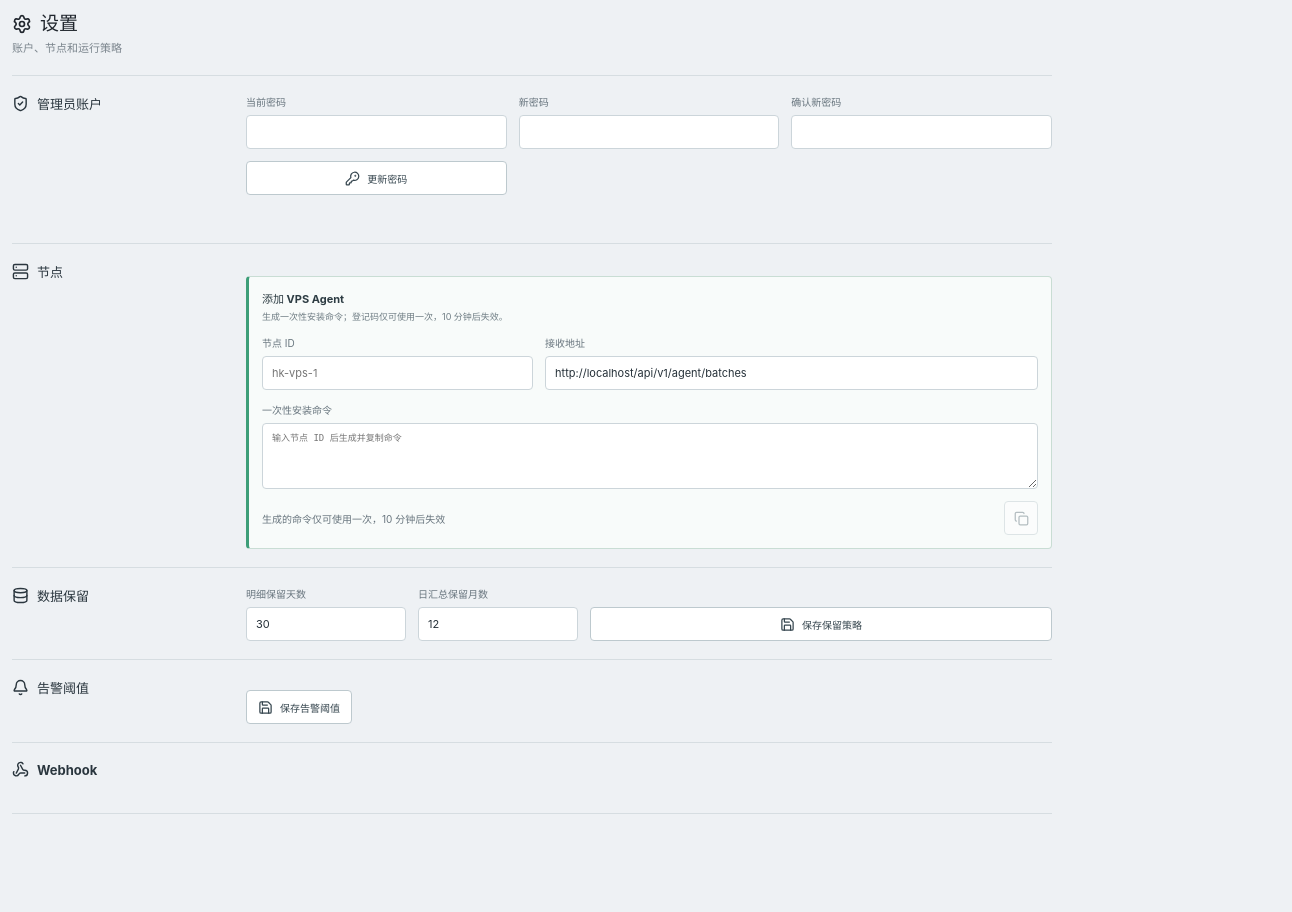
submits password changes using the server route method
Expected: the number field labelled "明细保留天数" is shown, [246, 607, 406, 641]
Type "current password value" into the password field labelled "当前密码".
click(376, 132); type("current password value")  # box [246, 115, 507, 149]
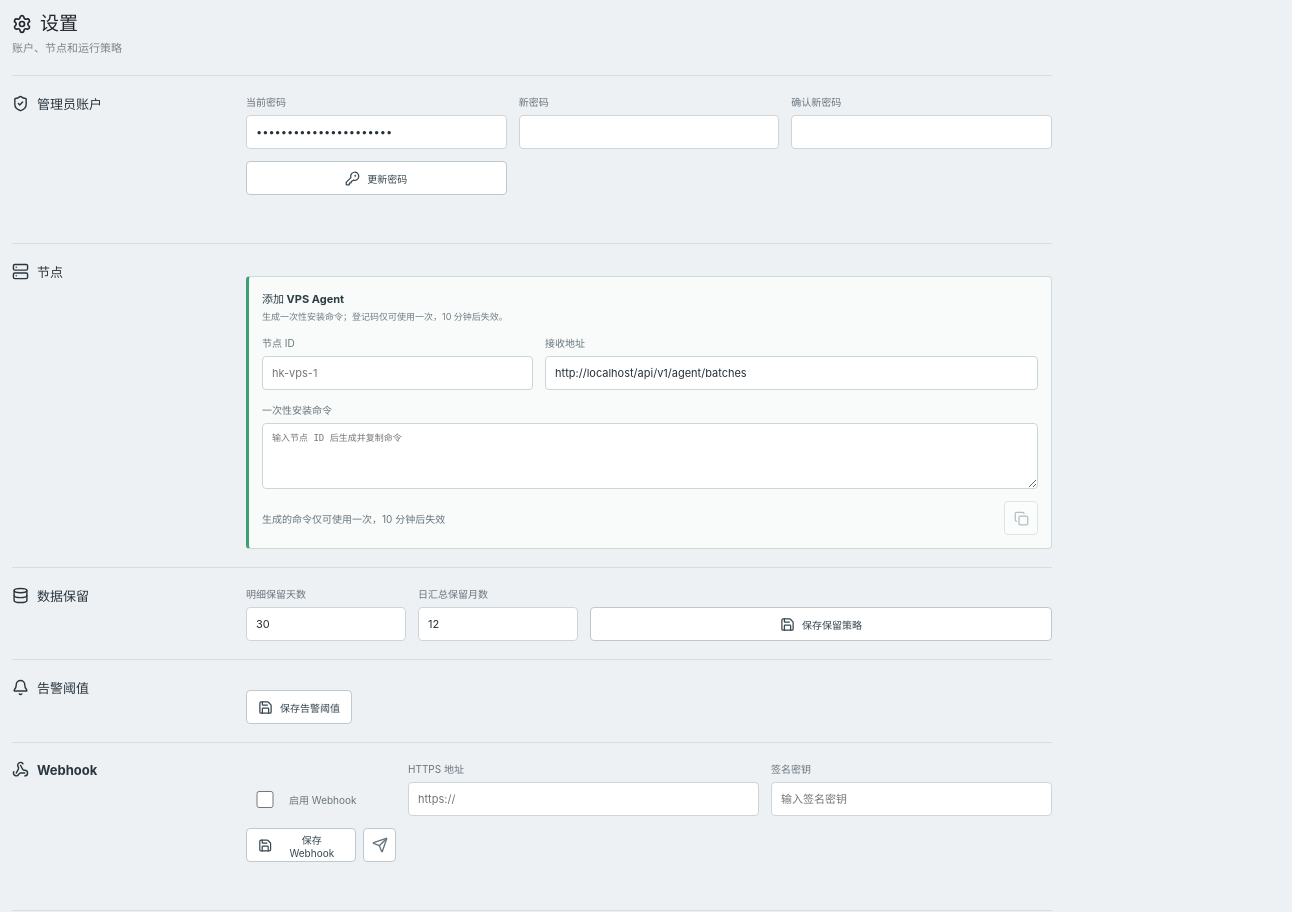
Type "new password value" into the password field labelled "新密码".
click(649, 132); type("new password value")  # box [519, 115, 779, 149]
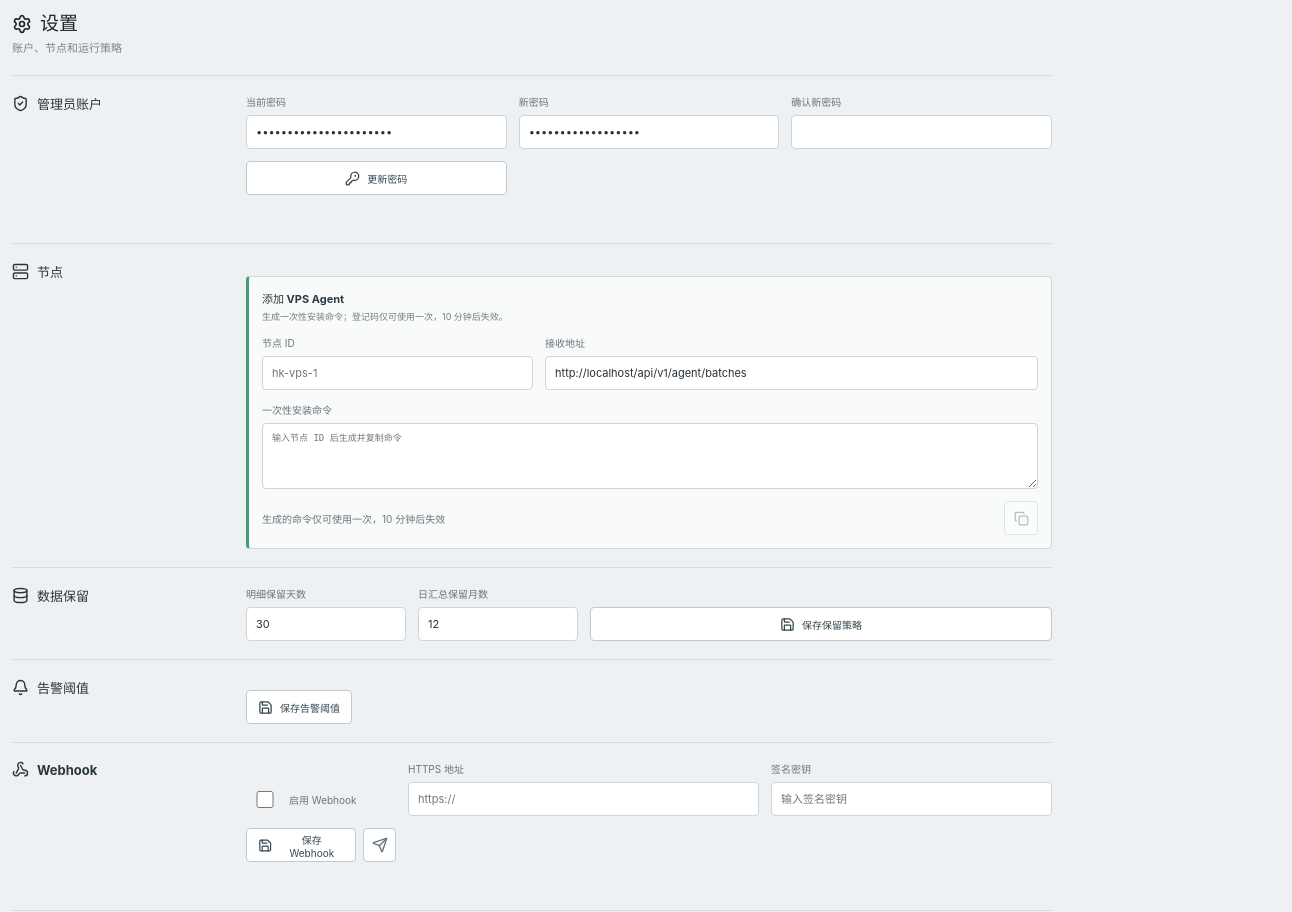
Type "new password value" into the password field labelled "确认新密码".
click(922, 132); type("new password value")  # box [791, 115, 1052, 149]
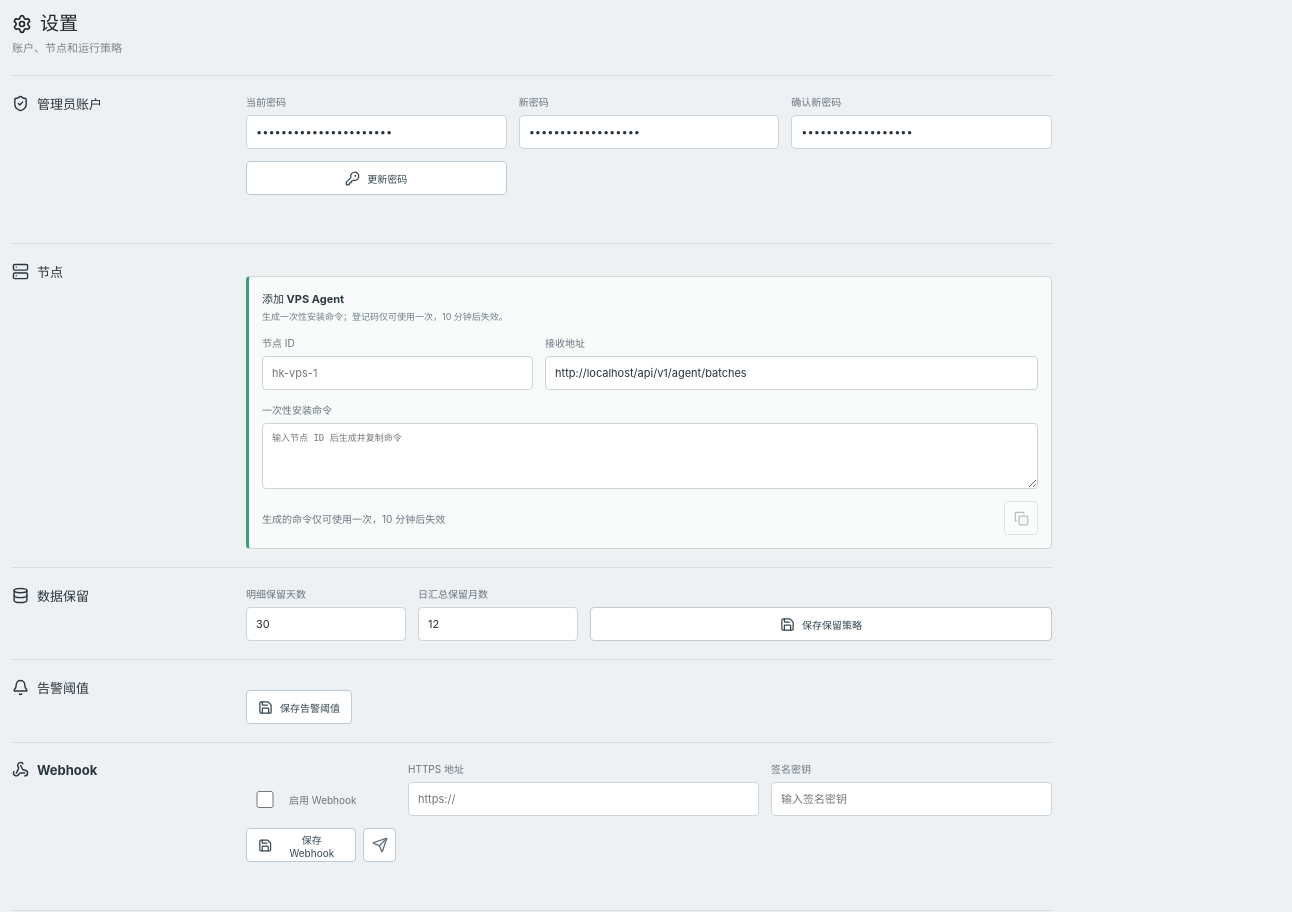
Click the button "更新密码".
click(376, 178)  # box [246, 161, 507, 195]
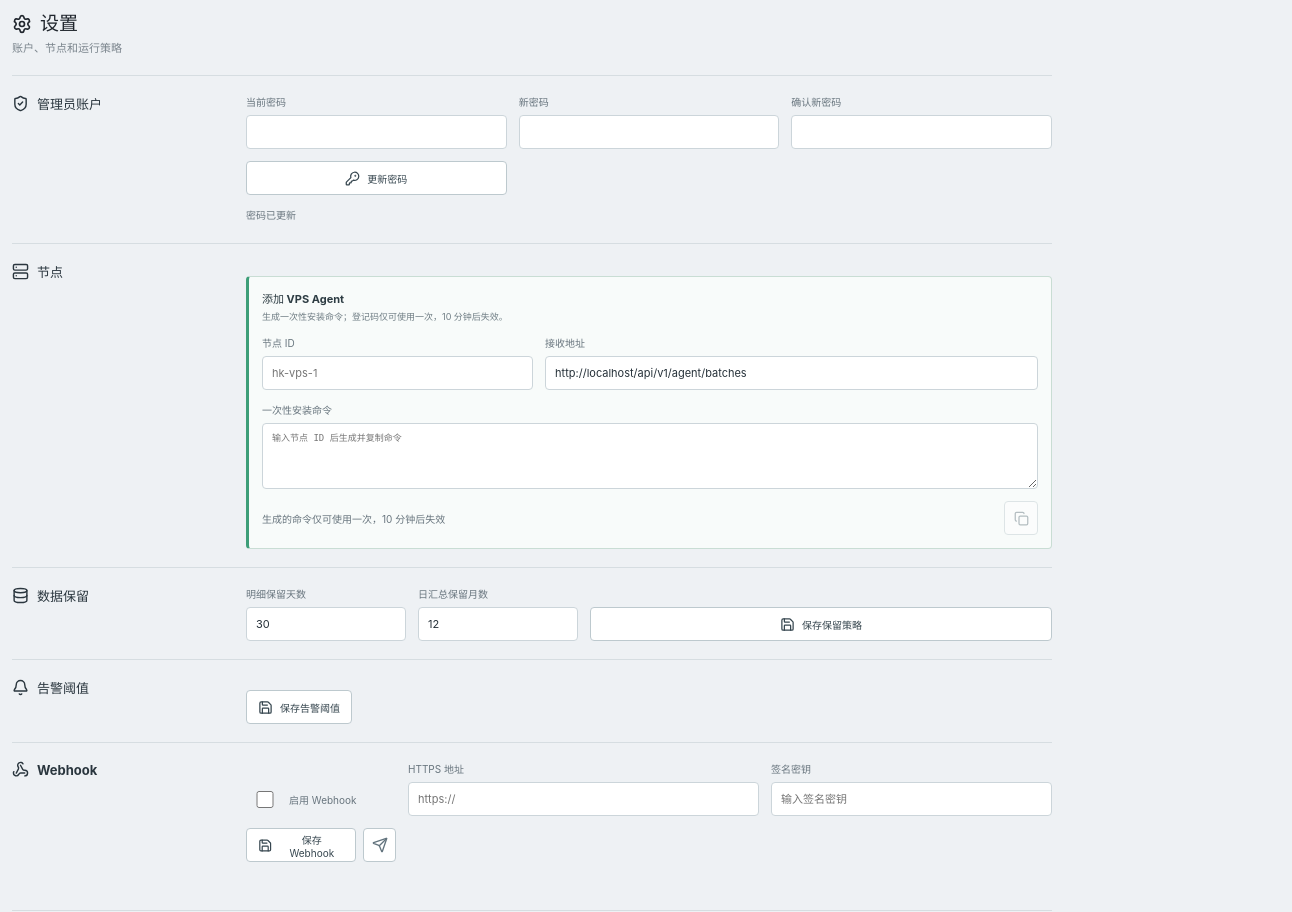
Result: the text "密码已更新" is shown at [246, 209, 296, 221]
